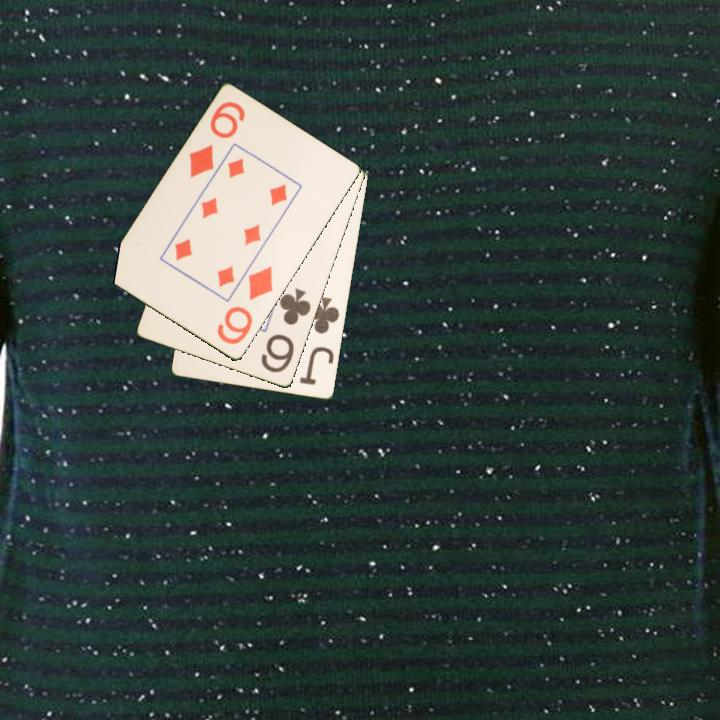6c: (257, 285, 314, 376)
6d: (213, 262, 276, 348), (185, 98, 248, 181)
Jc: (296, 294, 343, 388)
